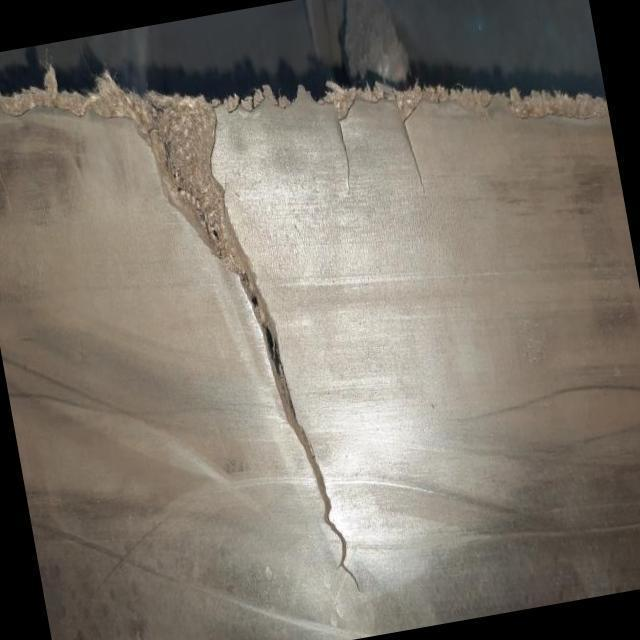Tear: (113, 114, 410, 606), (331, 99, 364, 195), (396, 95, 428, 187)
